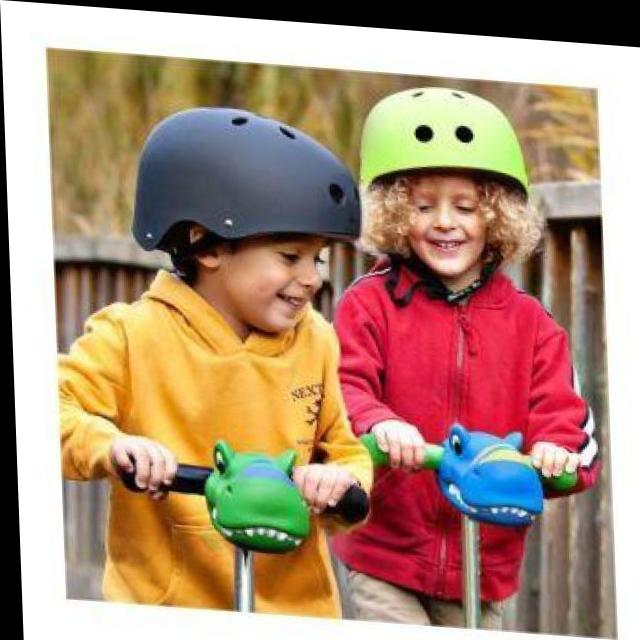helmet: (124, 97, 365, 339), (361, 73, 547, 316)
